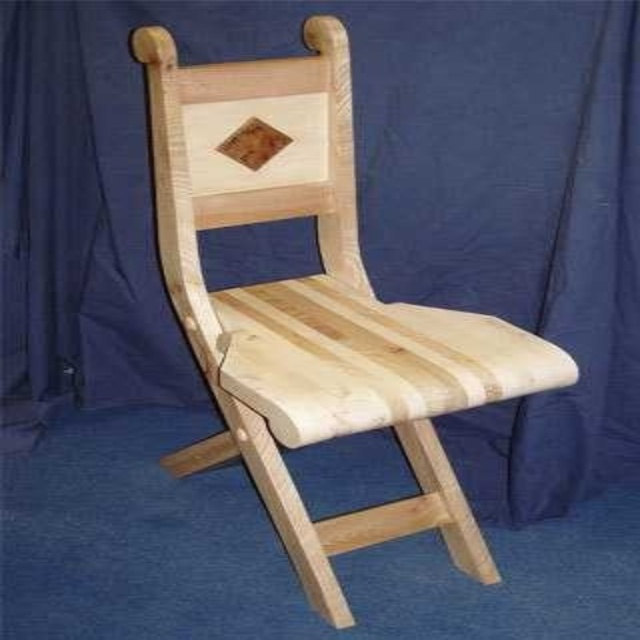obstacle: (132, 16, 576, 627)
